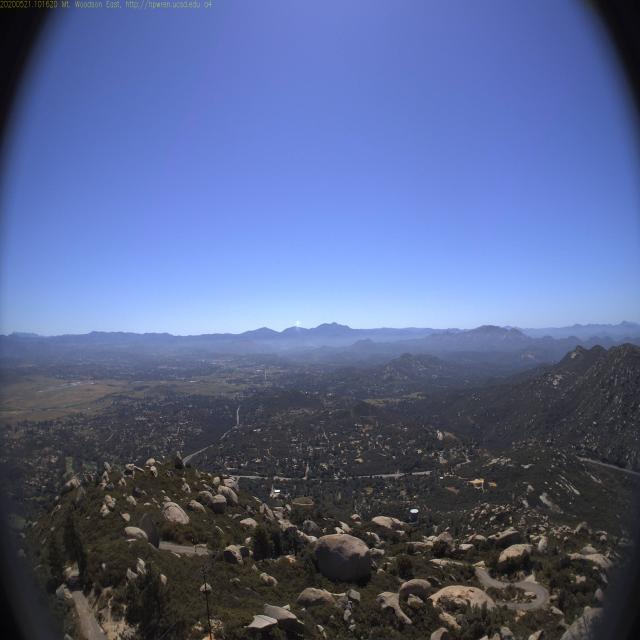smoke: (294, 317, 315, 349)
